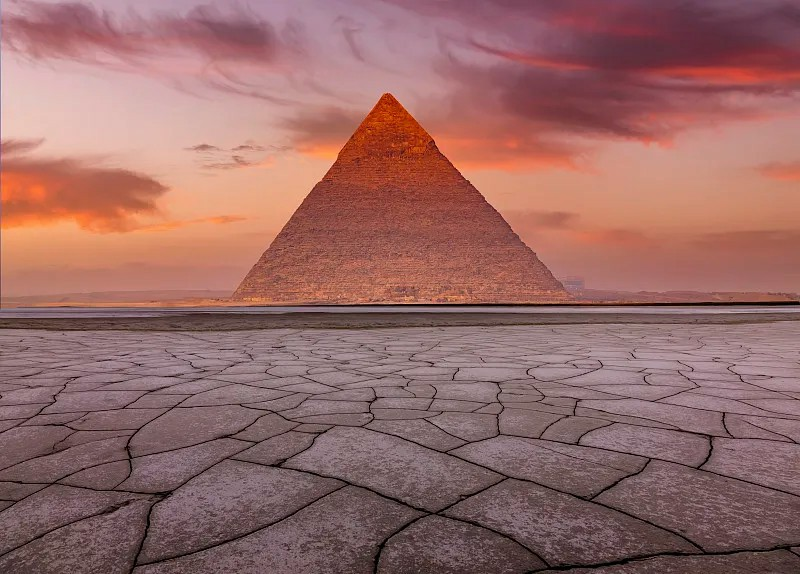Pyramid: (231, 94, 571, 295)
